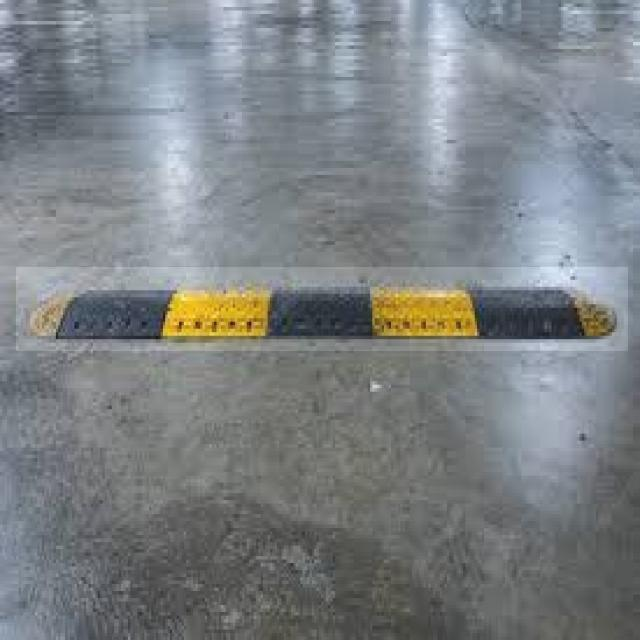Marked Bump: (40, 277, 618, 353)
